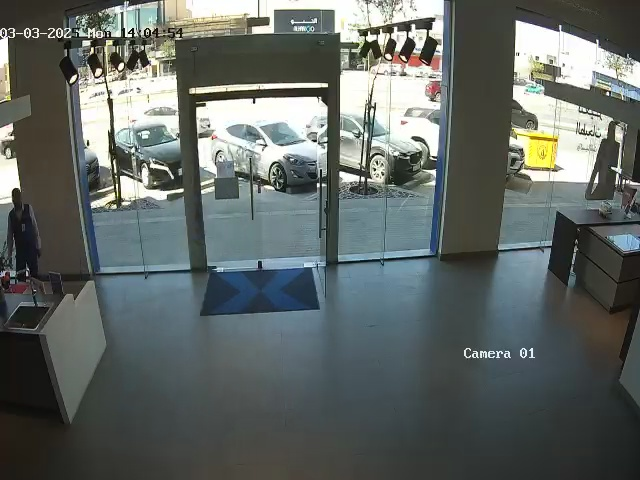employee: (5, 188, 41, 278)
